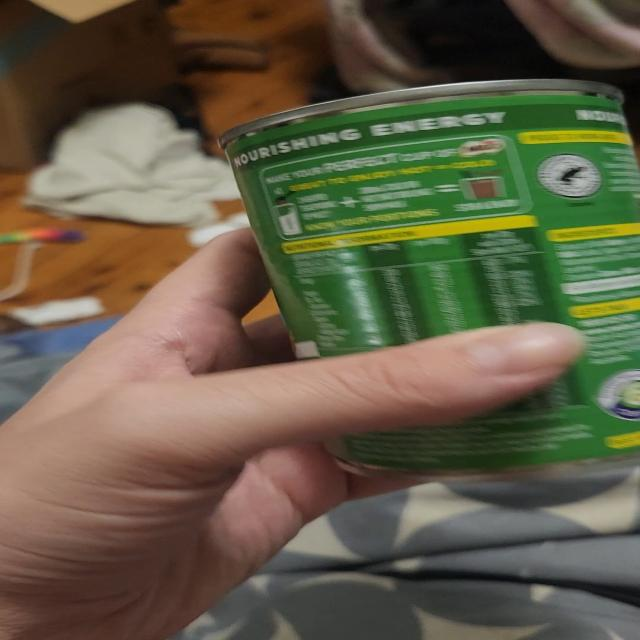nestle_milo_tin: (220, 79, 639, 479)
